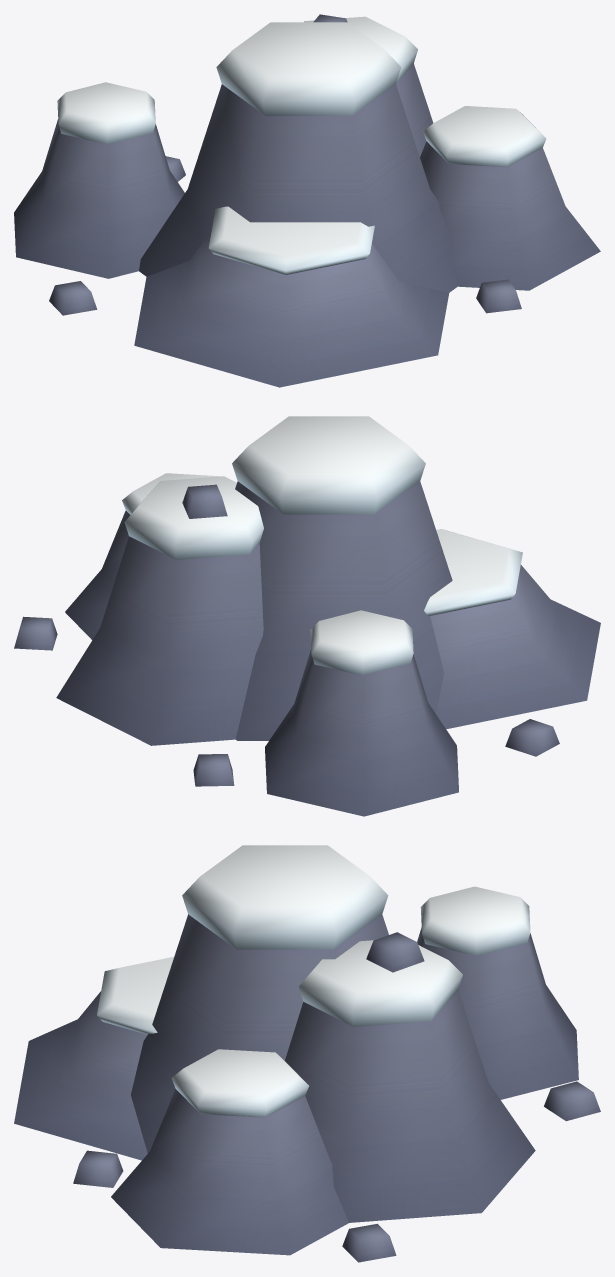
File: rocks-small.glb
3 views of the same model, one above another, from view 1: azimuth 30°, elevation 25°; view 2: azimuth 150°, elevation 25°; view 3: azimuth 270°, elevation 25° (orthographic). The views are drawn at different scales.
Parts seen in each view (by area): view 1: rocks-small; view 2: rocks-small; view 3: rocks-small.
Boxes of the visible parts, x1=… form: rocks-small: x1=14, y1=14, x2=600, y2=387; rocks-small: x1=14, y1=416, x2=600, y2=816; rocks-small: x1=14, y1=845, x2=600, y2=1262.
Bounding box in the file's own units: 1.54 × 0.646 × 1.41.
1 material, 1 textured.
